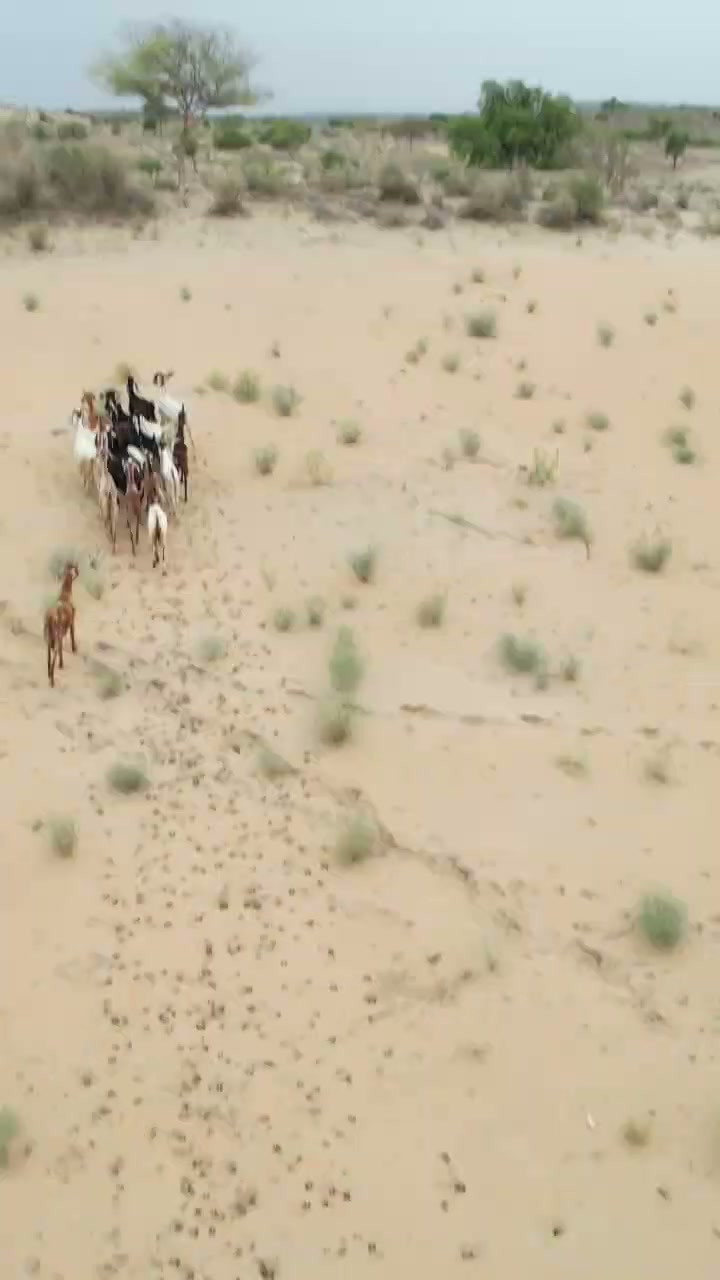animal_foot_print: (70, 543, 367, 1268)
